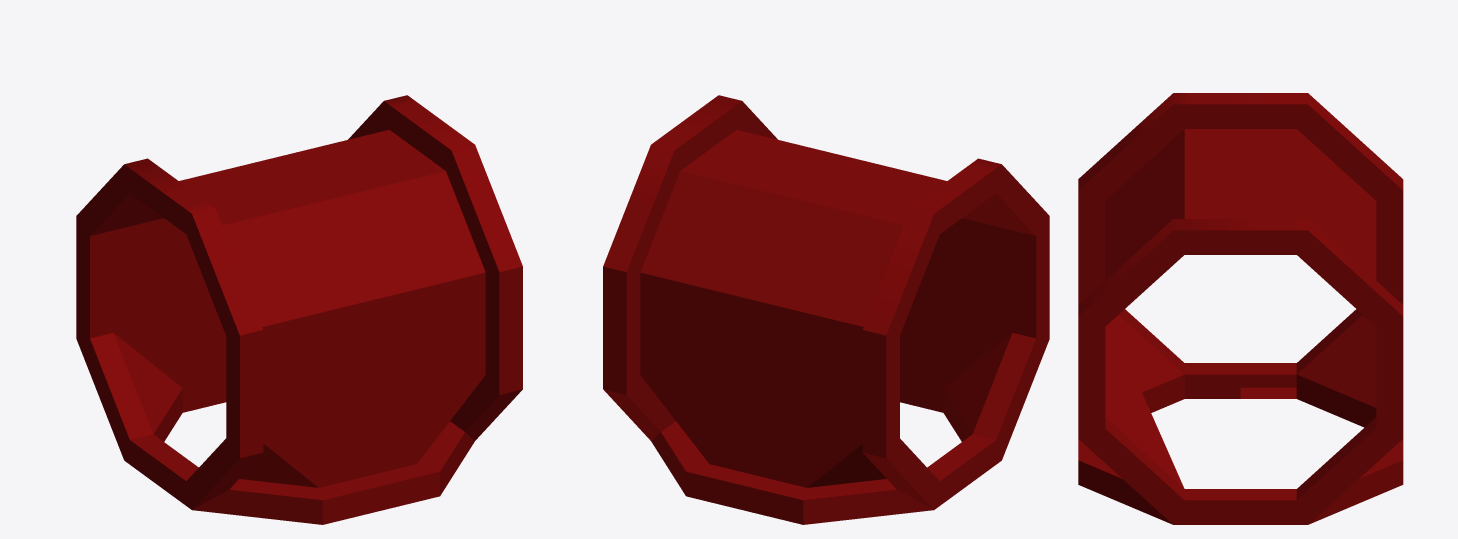
File: 3 way of justice(1).dae
The picture shows the model from 3 angles, left to right: view 1: azimuth 30°, elevation 25°; view 2: azimuth 150°, elevation 25°; view 3: azimuth 270°, elevation 25°; orthographic projection.
Visible parts, largest first — view 1: SketchUp; view 2: SketchUp; view 3: SketchUp.
Boxes of the visible parts, left/top/right/bottom form: SketchUp: left=76, top=95, right=522, bottom=524; SketchUp: left=603, top=95, right=1049, bottom=524; SketchUp: left=1078, top=93, right=1403, bottom=524.
Bounding box in the file's own units: 1303 × 1063 × 1087.
